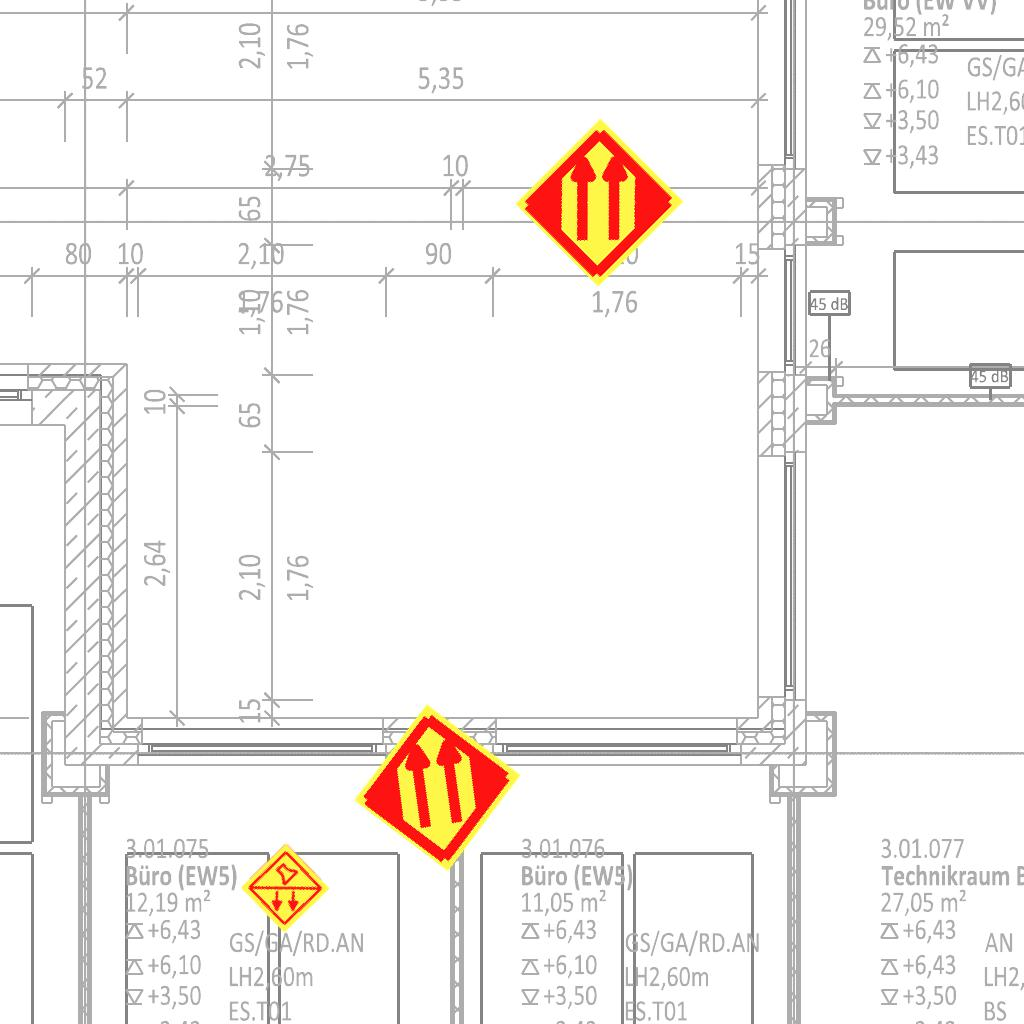ASR_Ansaugrauchmelder: (349, 699, 526, 876), (511, 114, 688, 291)
OKW_Multisensormelder_(Kombination_optischer_Rauch-Kahlenmonoxid_Waerme-Melder): (238, 841, 332, 935)
